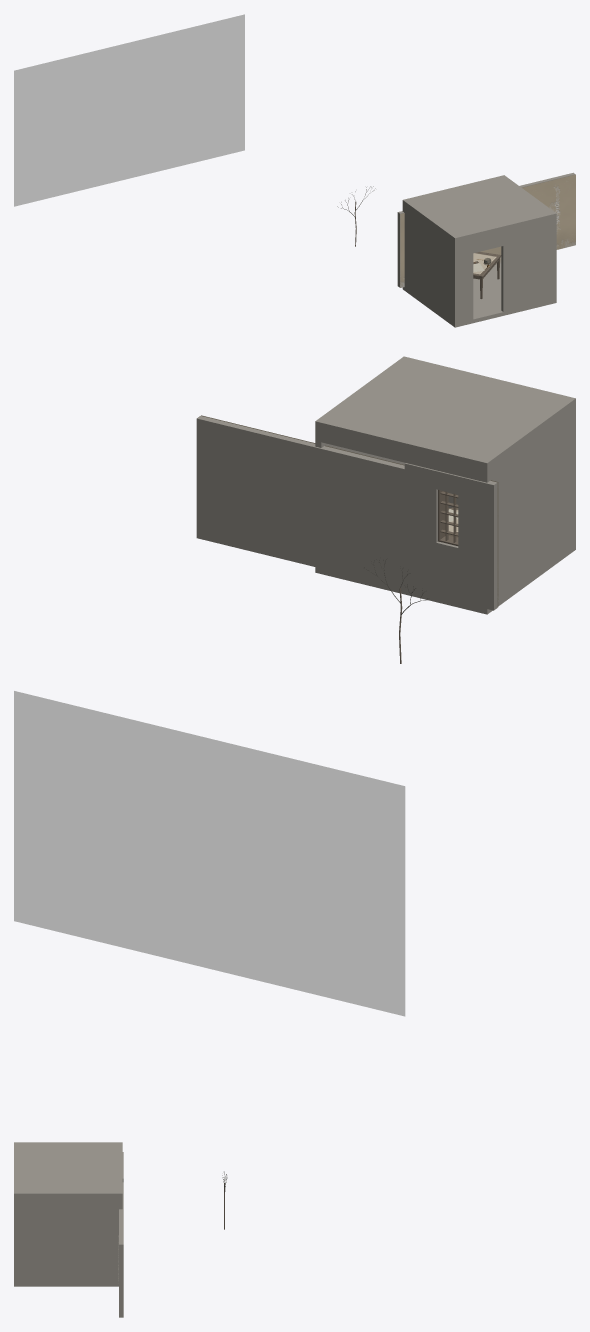
Rendered from Model_CommandRoom.glb.
The picture shows the model from 3 angles, top to bottom: view 1: azimuth 30°, elevation 25°; view 2: azimuth 150°, elevation 25°; view 3: azimuth 270°, elevation 25°; orthographic projection. The views are drawn at different scales.
Visible parts, largest first — view 1: Room_CommandRoomFarmland, Room_CommandRoomPlaster, Room_CommandRoomWallSurface, Room_CommandRoomWood; view 2: Room_CommandRoomFarmland, Room_CommandRoomPlaster, Room_CommandRoomWood; view 3: Room_CommandRoomPlaster.
Part boxes in pixels (x1,y1,x2,y2): Room_CommandRoomFarmland: (14, 14, 244, 206); Room_CommandRoomPlaster: (397, 172, 575, 327); Room_CommandRoomWallSurface: (400, 174, 575, 287); Room_CommandRoomWood: (354, 201, 501, 298); Room_CommandRoomFarmland: (14, 691, 405, 1016); Room_CommandRoomPlaster: (196, 356, 575, 614); Room_CommandRoomWood: (399, 490, 458, 663); Room_CommandRoomPlaster: (14, 1142, 123, 1317).
Bounding box in the file's own units: 11.34 × 4.32 × 15.6.
